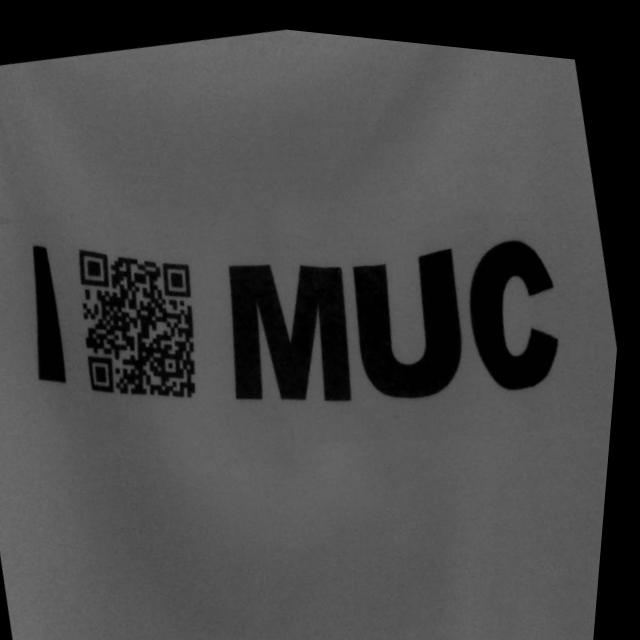qrcode: (67, 223, 225, 416)
